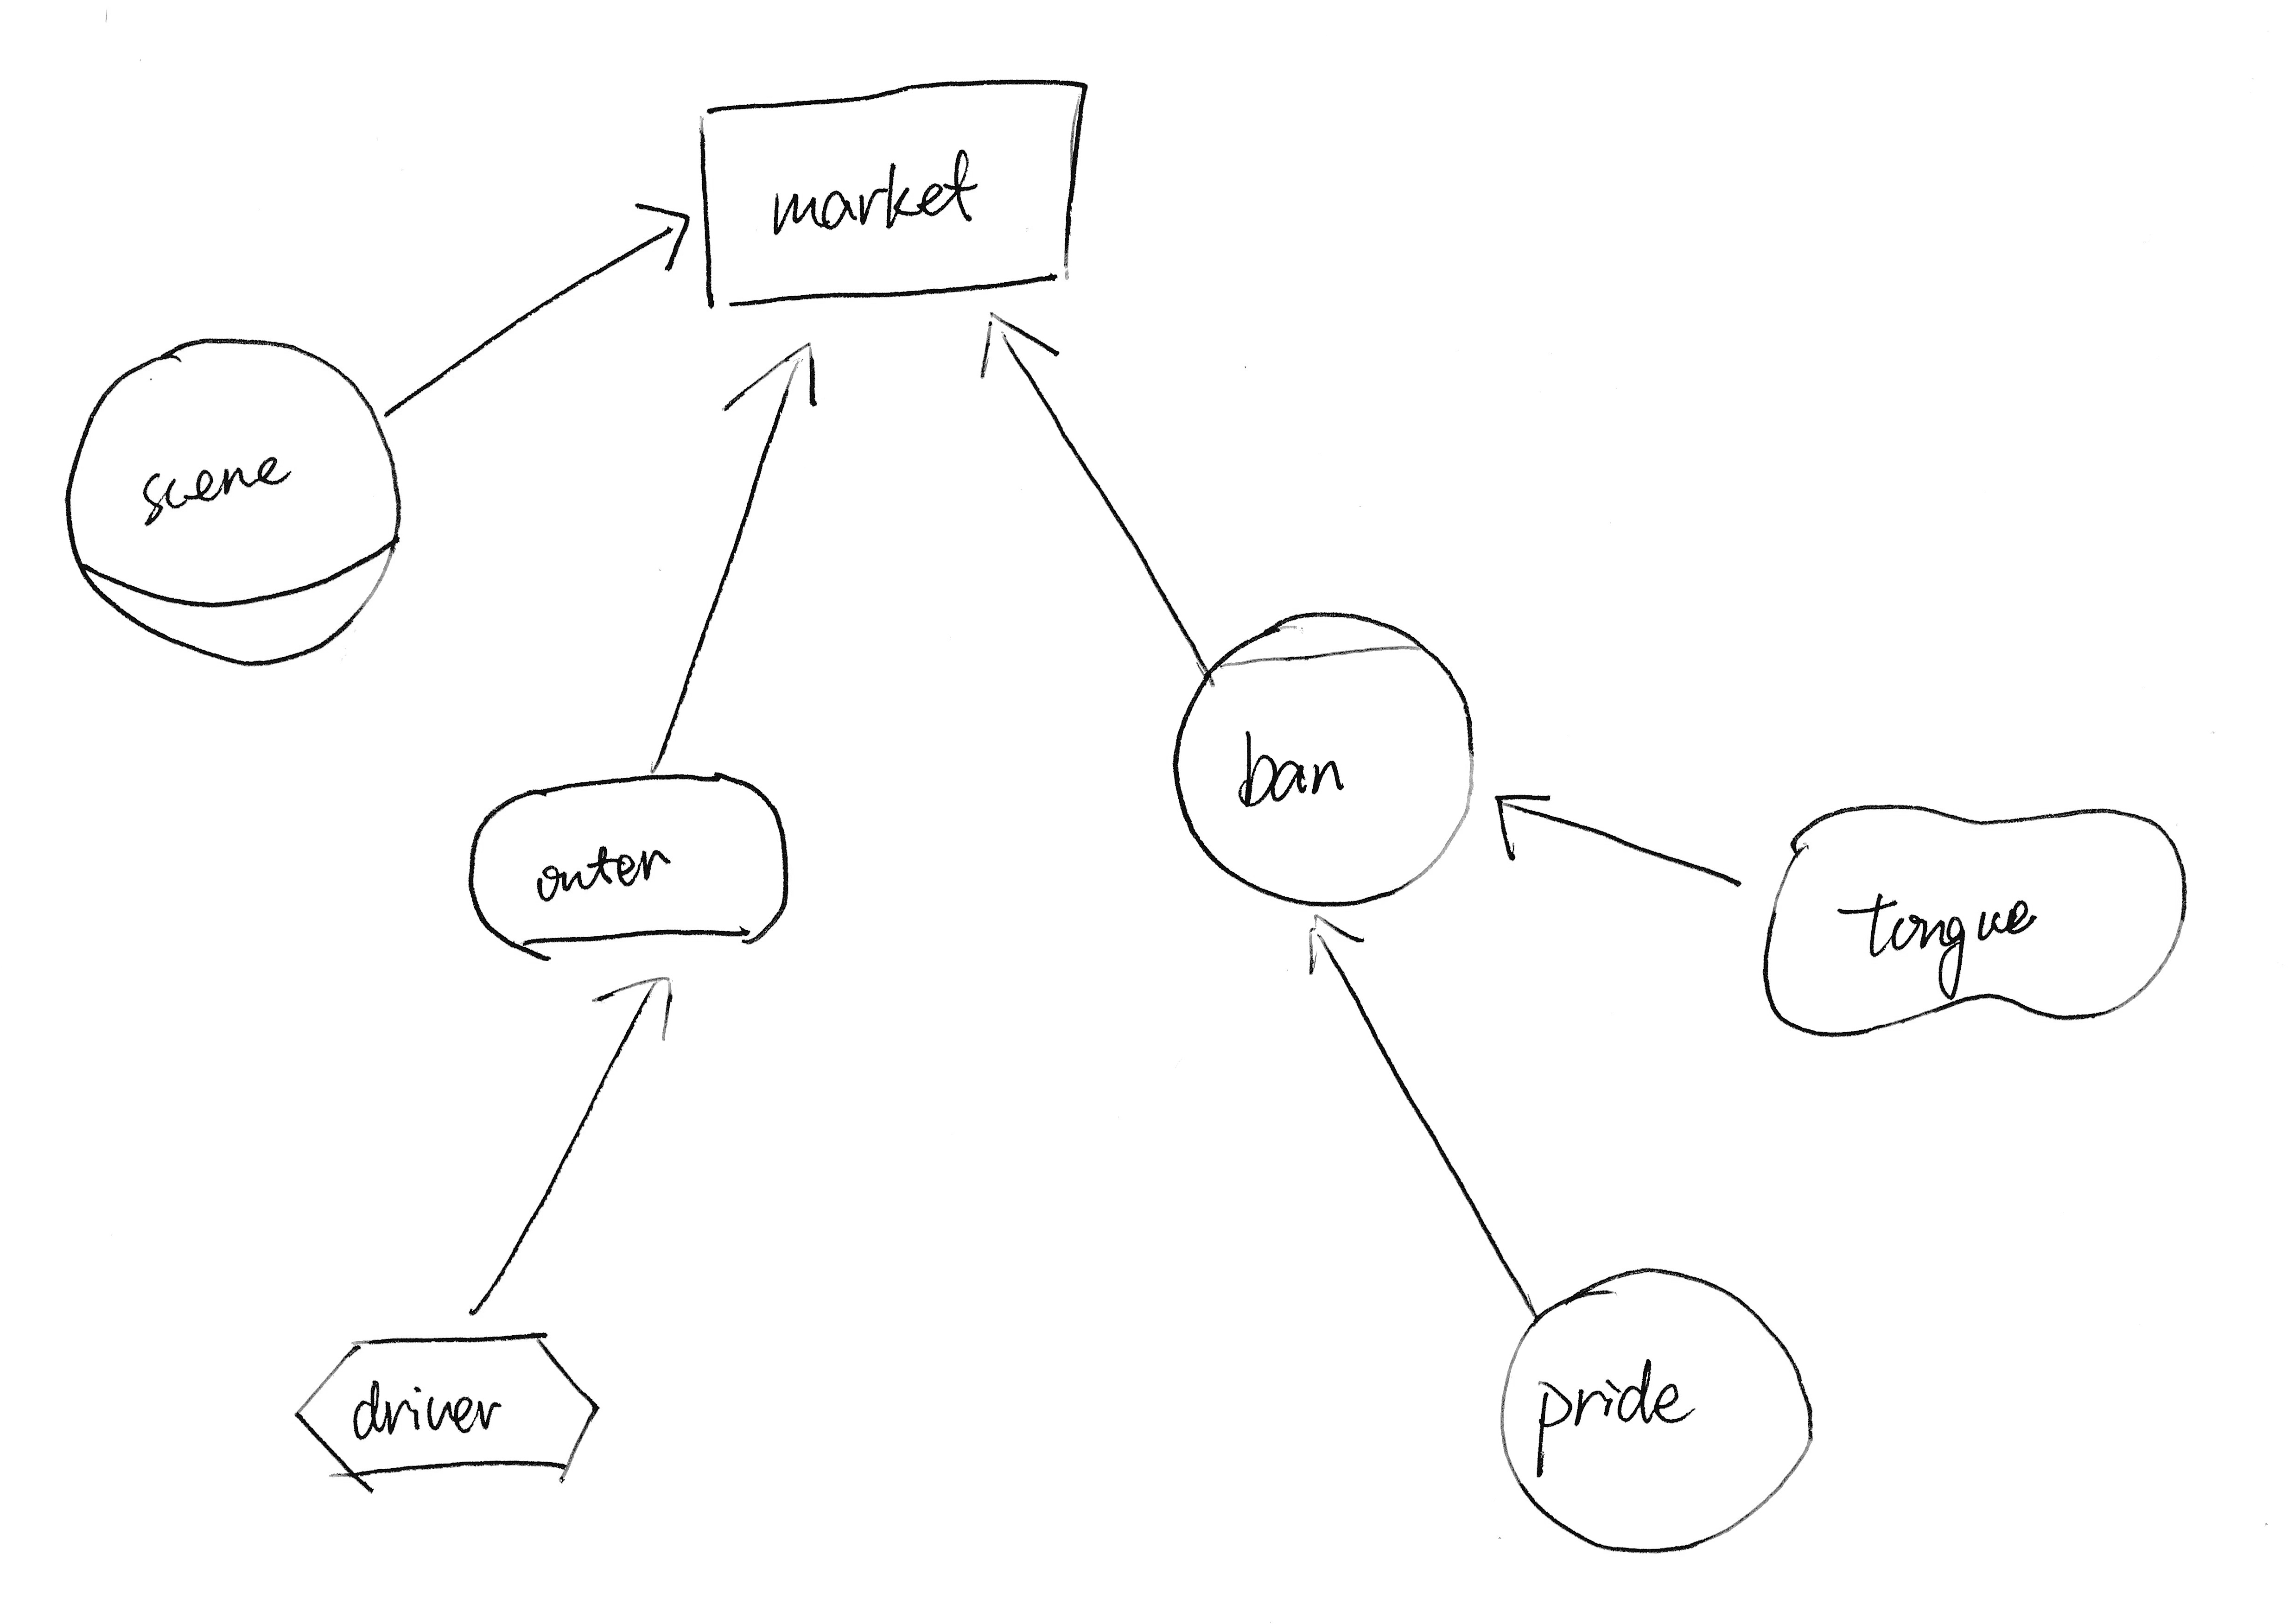actor: (1480, 1248, 1826, 1562)
agent: (1151, 591, 1496, 924)
arrow: (707, 336, 835, 427), (960, 295, 1072, 399), (1473, 763, 1566, 875), (1281, 900, 1387, 993), (610, 185, 701, 286), (580, 968, 694, 1044)
goal: (452, 750, 802, 975)
quality: (1739, 779, 2217, 1055)
resource: (675, 62, 1109, 320)
role: (47, 323, 427, 682)
task: (279, 1320, 615, 1510)
